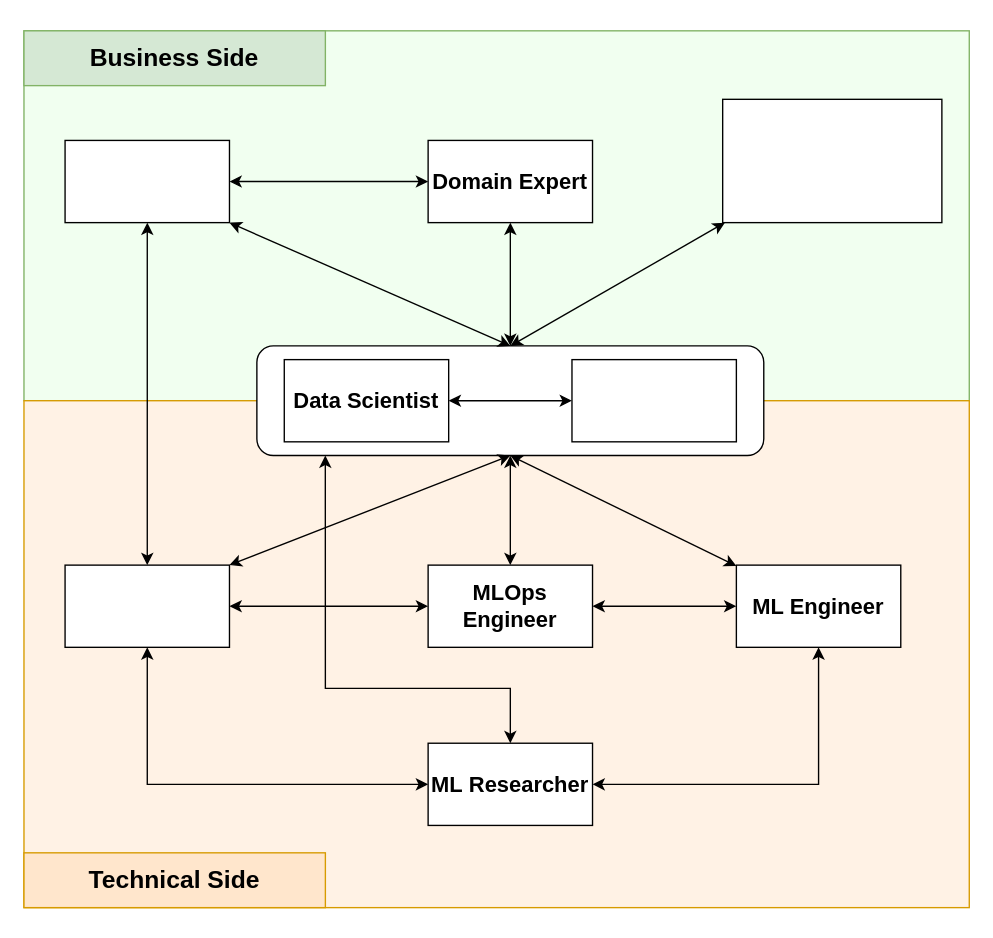
Image size: 993x938. Some labels were removed from this diagram. Here are the shapes that lost their labels. From the top down, the box of each, then its label:
(721, 98, 942, 223): Business Analyst / Customer Facing Roles
(64, 139, 229, 223): Data Analyst
(571, 358, 736, 442): ML Project Manager
(64, 564, 229, 647): Data Engineer
